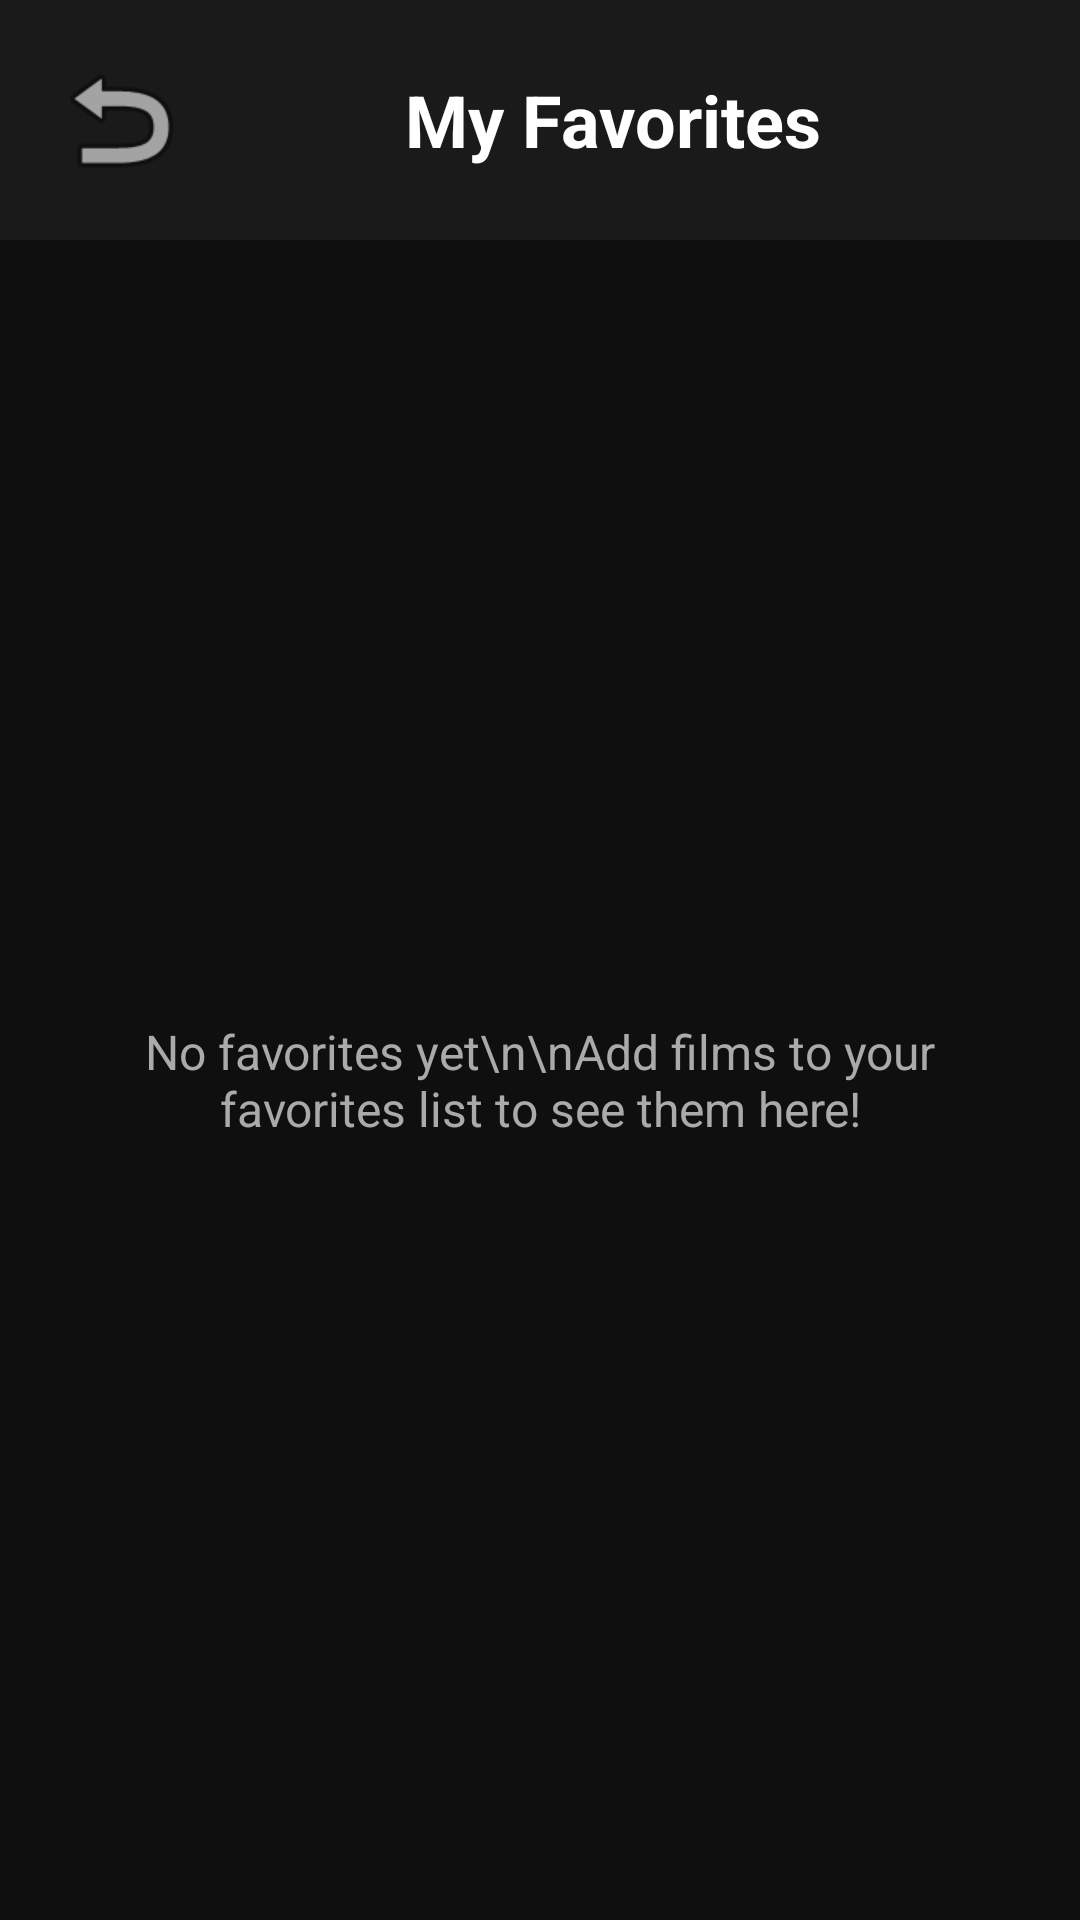

Named icons in this screenshot (1080 x 1920) and their centers, (x,y):
revert: (122,121)
